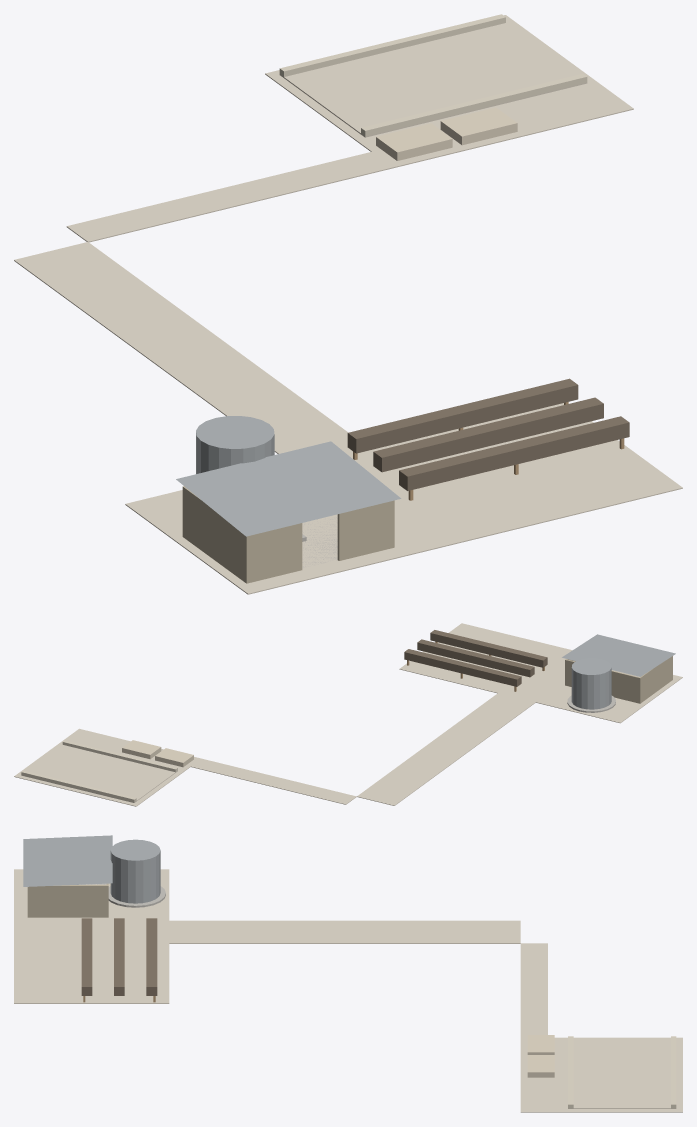
File: infrastructure.glb
3 renders of one model, top to bottom at view 1: azimuth 30°, elevation 25°; view 2: azimuth 150°, elevation 25°; view 3: azimuth 270°, elevation 25°, orthographic. The views are drawn at different scales.
Visible parts, largest first — view 1: gravel, bronze, standing-seam metal, board and batten, stone, dirt; view 2: gravel, standing-seam metal, bronze, board and batten, stone, dirt; view 3: gravel, standing-seam metal, bronze, board and batten, dirt, stone.
Part boxes in pixels (bbox=[...]): gravel: bbox=[14, 15, 682, 594]; bronze: bbox=[347, 378, 629, 490]; standing-seam metal: bbox=[176, 416, 401, 536]; board and batten: bbox=[182, 486, 394, 583]; stone: bbox=[279, 14, 587, 137]; dirt: bbox=[376, 107, 517, 160]; gravel: bbox=[14, 623, 682, 806]; standing-seam metal: bbox=[562, 634, 675, 709]; bronze: bbox=[404, 630, 547, 686]; board and batten: bbox=[565, 656, 672, 703]; stone: bbox=[21, 740, 177, 802]; dirt: bbox=[122, 740, 193, 767]; gravel: bbox=[14, 869, 682, 1112]; standing-seam metal: bbox=[23, 835, 160, 903]; bronze: bbox=[81, 918, 157, 995]; board and batten: bbox=[27, 883, 108, 917]; dirt: bbox=[527, 1035, 554, 1077]; stone: bbox=[568, 1036, 676, 1108].
Size of the model in its own units: 42.5 by 3.7 by 49.5.
